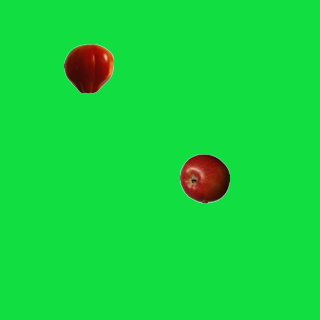Apple Braeburn: (179, 153, 229, 203)
Tomato 1: (63, 43, 113, 93)
